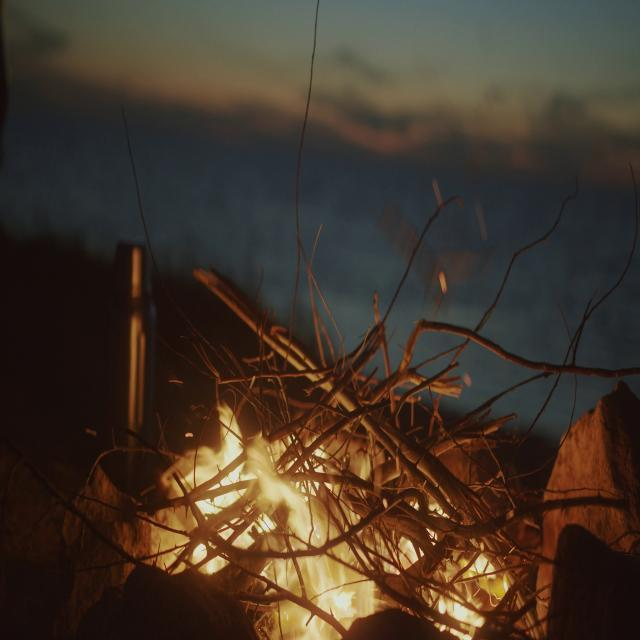Fire: (180, 402, 373, 637), (428, 536, 522, 636)
